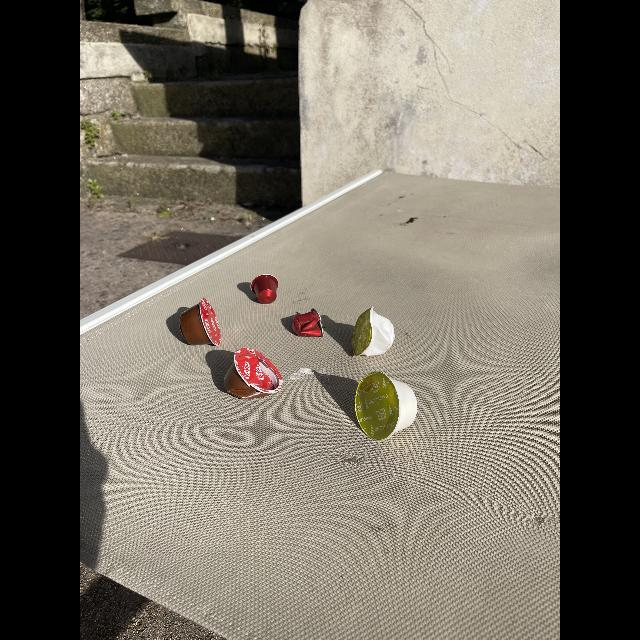damaged_capsule: (223, 346, 287, 402), (346, 306, 398, 358), (289, 306, 327, 340)
intact_capsule: (351, 368, 422, 444), (176, 297, 224, 349), (250, 273, 280, 305)
